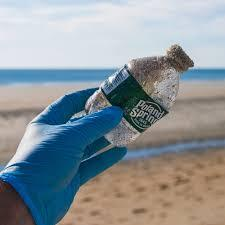Plastic: (75, 25, 196, 153)
